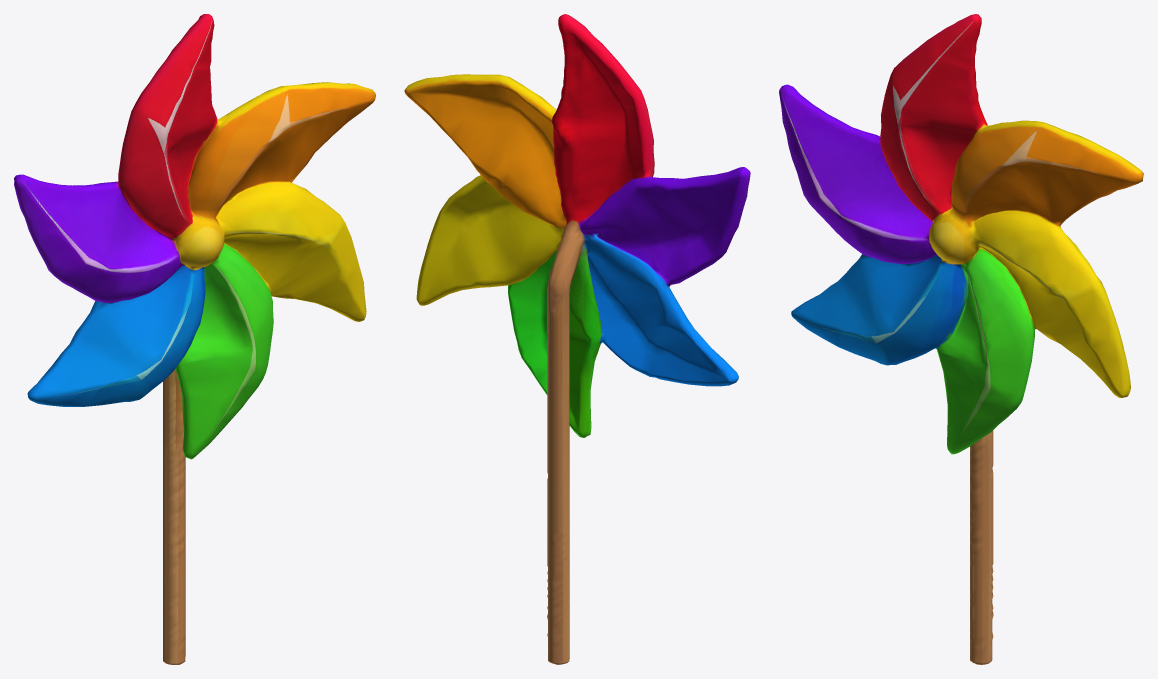
The model's file is prop-pinwheel.glb.
3 renders of one model, left to right at view 1: azimuth 30°, elevation 25°; view 2: azimuth 150°, elevation 25°; view 3: azimuth 330°, elevation 25°, orthographic. The views are drawn at different scales.
Size of the model in its own units: 1.09 by 1.91 by 0.227.
1 material, 1 textured.
